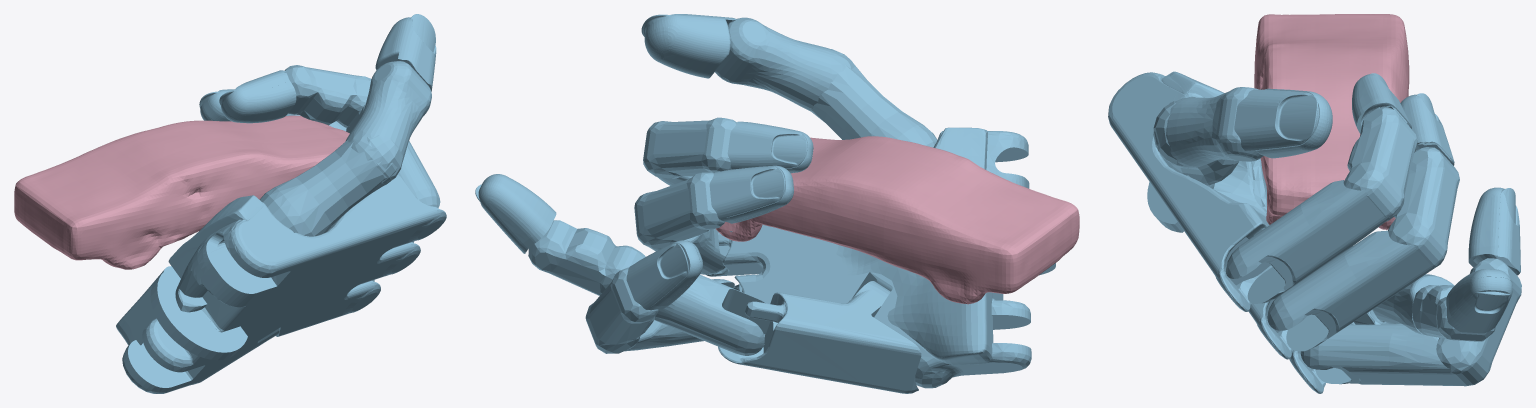
The picture shows the model from 3 angles, left to right: view 1: azimuth 30°, elevation 25°; view 2: azimuth 150°, elevation 25°; view 3: azimuth 270°, elevation 25°; orthographic projection. The views are drawn at different scales.
Parts seen in each view (by area): view 1: hand, world; view 2: hand, world; view 3: hand, world.
Boxes of the visible parts, x1,y1,x2,y2 form: hand: [116, 14, 446, 393]; world: [14, 115, 349, 269]; hand: [475, 14, 1055, 393]; world: [716, 136, 1079, 304]; hand: [1108, 71, 1521, 393]; world: [1254, 14, 1409, 229].
Size of the model in its own units: 0.1911 by 0.1178 by 0.1295.
